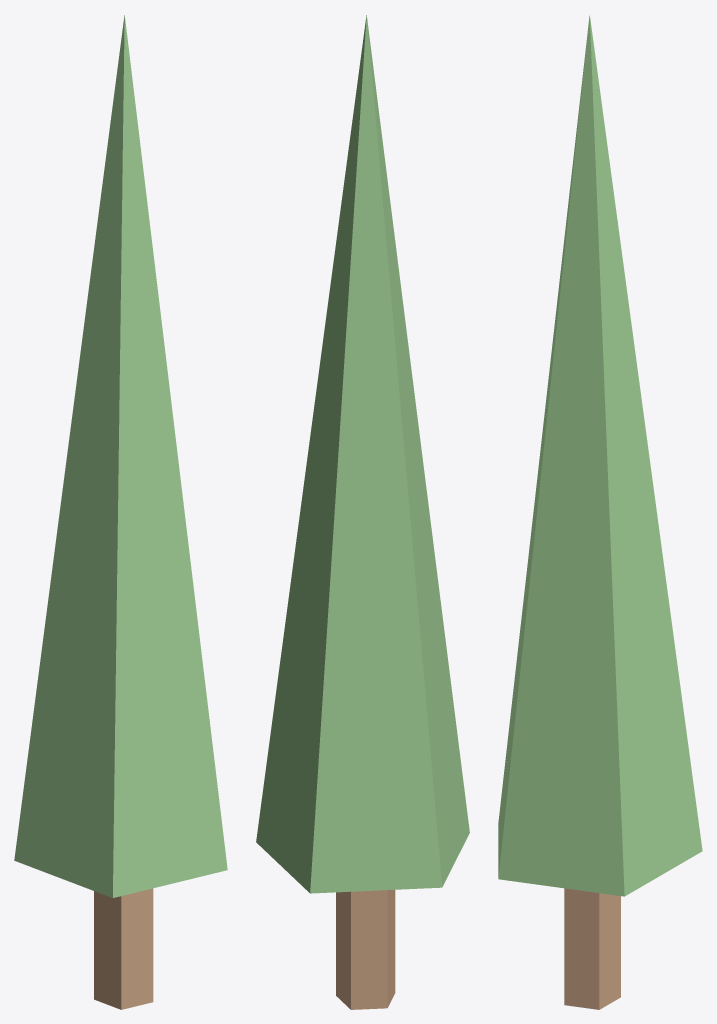
The model's file is Pine1.fbx.
The picture shows the model from 3 angles, left to right: view 1: azimuth 30°, elevation 25°; view 2: azimuth 150°, elevation 25°; view 3: azimuth 270°, elevation 25°; orthographic projection.
Parts seen in each view (by area): view 1: Pino1; view 2: Pino1; view 3: Pino1.
Part boxes in pixels (x1=…): Pino1: x1=14, y1=15, x2=227, y2=1009; Pino1: x1=256, y1=15, x2=469, y2=1009; Pino1: x1=498, y1=15, x2=702, y2=1009.
Size of the model in its own units: 234 by 1180 by 222.
